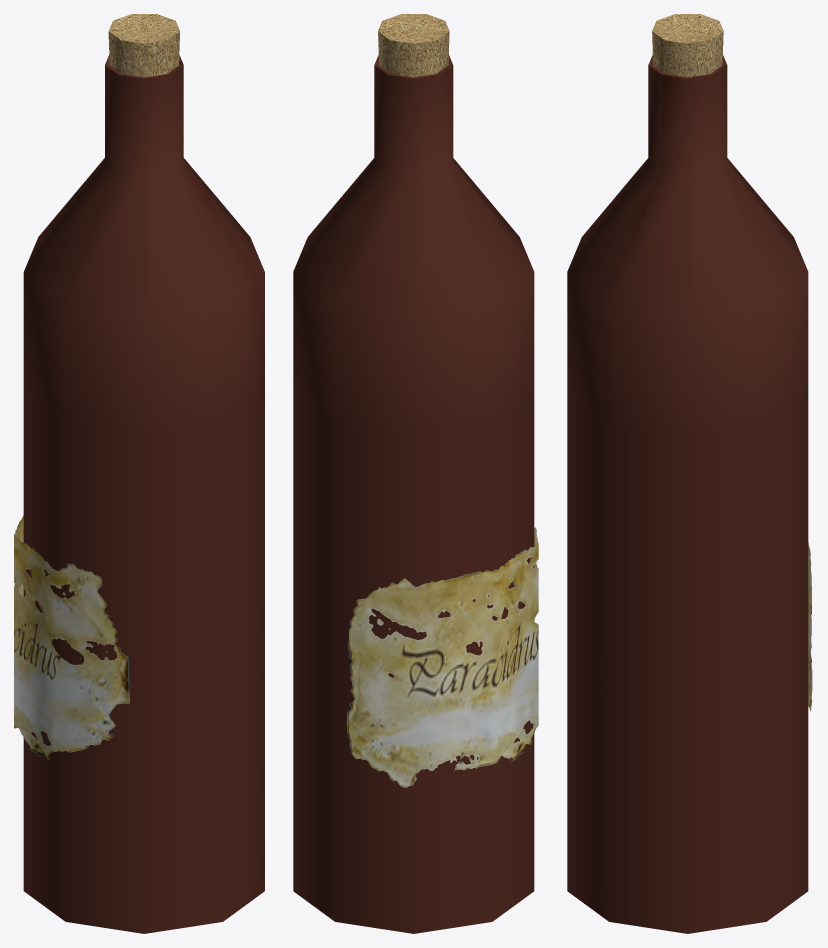
Rendered from bottle4.FBX.
The picture shows the model from 3 angles, left to right: view 1: azimuth 30°, elevation 25°; view 2: azimuth 150°, elevation 25°; view 3: azimuth 270°, elevation 25°; orthographic projection.
Visible parts, largest first — view 1: bottle4, Object002; view 2: bottle4, Object002; view 3: bottle4, Object002.
Boxes of the visible parts, x1,y1,x2,y2 form: bottle4: (14, 55, 264, 933); Object002: (108, 14, 179, 77); bottle4: (293, 54, 538, 933); Object002: (378, 14, 449, 77); bottle4: (567, 55, 812, 933); Object002: (652, 14, 723, 77).
Size of the model in its own units: 19.97 by 76.59 by 20.03.
